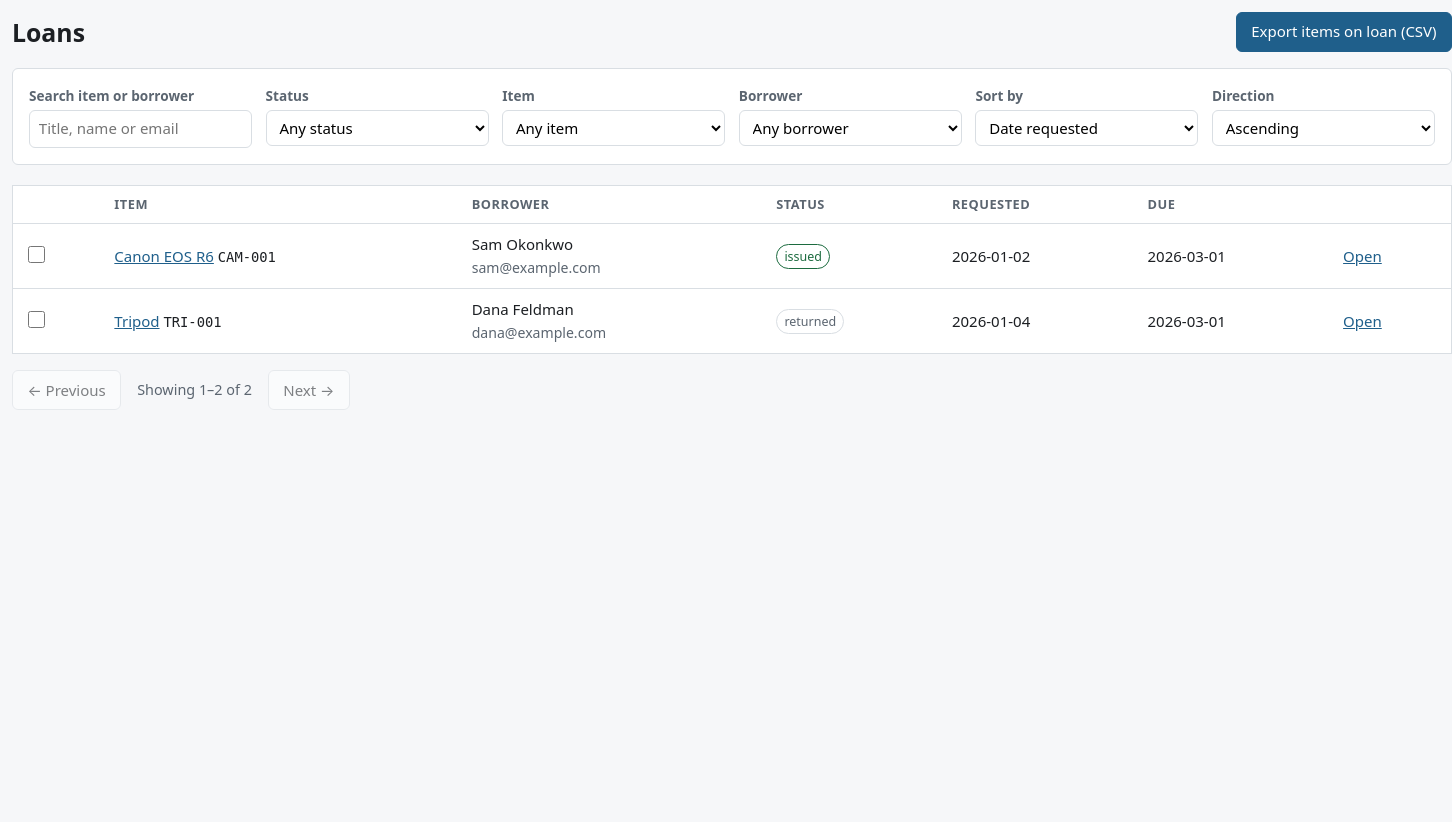
Scenario: bulk return › renders each loan outcome, keeping the partial success intact
The width and height of the screenshot is (1452, 822).
Click the checkbox named "Select loan of Canon EOS R6 to Sam Okonkwo" at (37, 255), box [28,246,45,263]
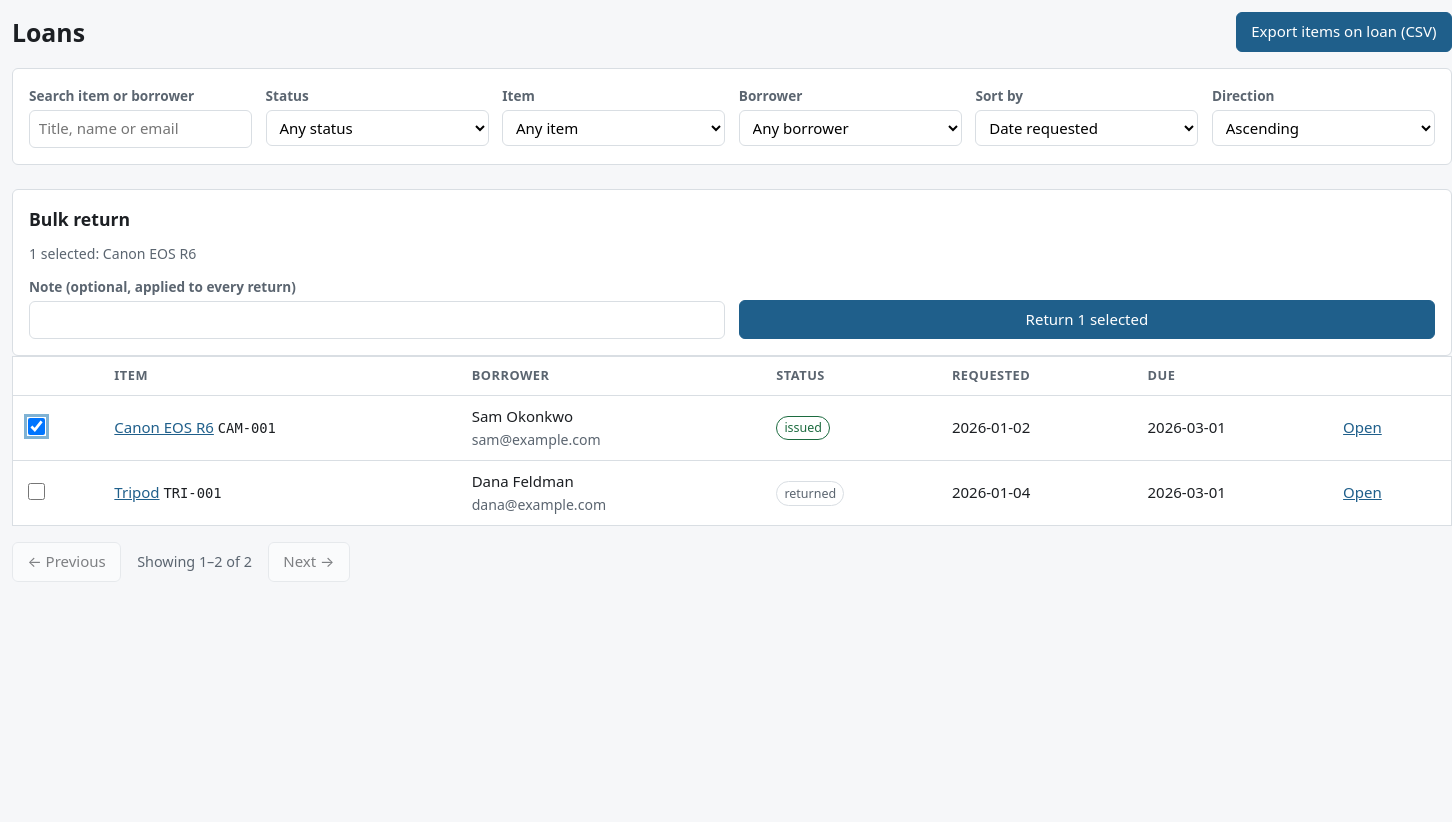
Click the checkbox named "Select loan of Tripod to Dana Feldman" at (37, 491), box [28,483,45,500]
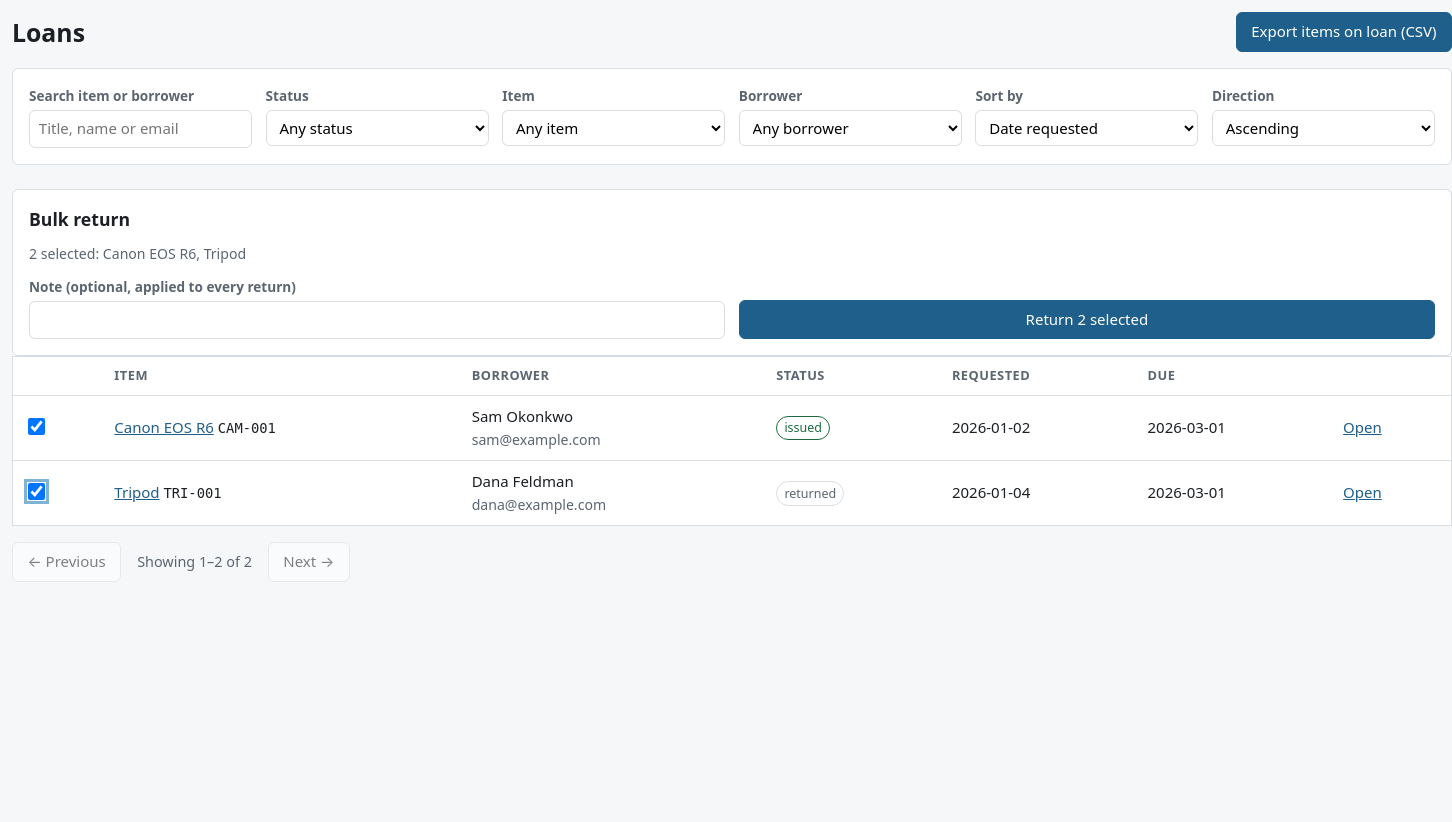
Click the button "Return 2 selected" at (1087, 320), box [739,300,1435,340]
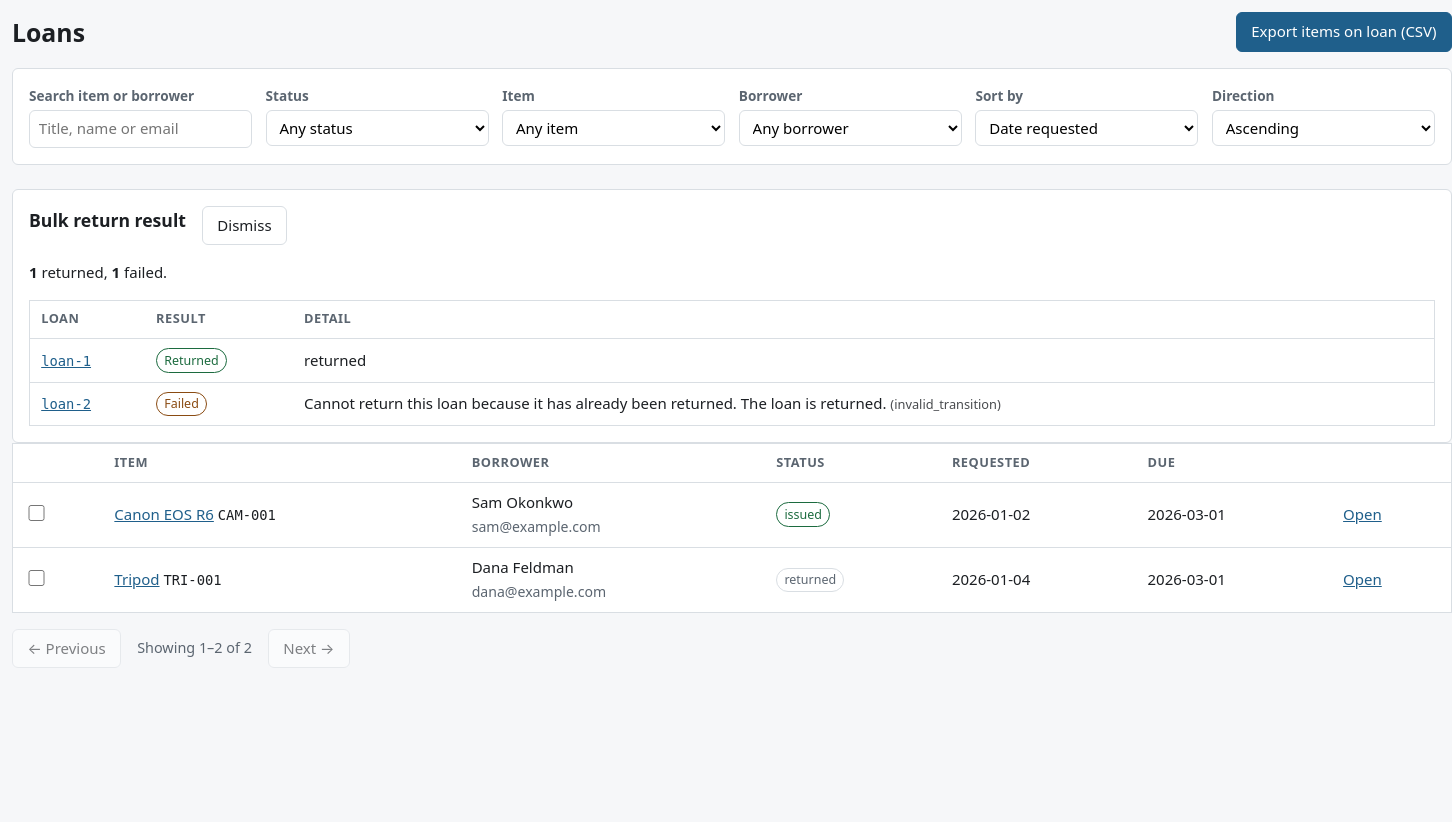
Expected: the element "Bulk return result" shows "1 returned, 1 failed", [12,189,1451,443]
Expected: the text "Returned" is shown, [156,348,227,373]
Expected: the text "Failed" is shown, [156,392,207,416]
